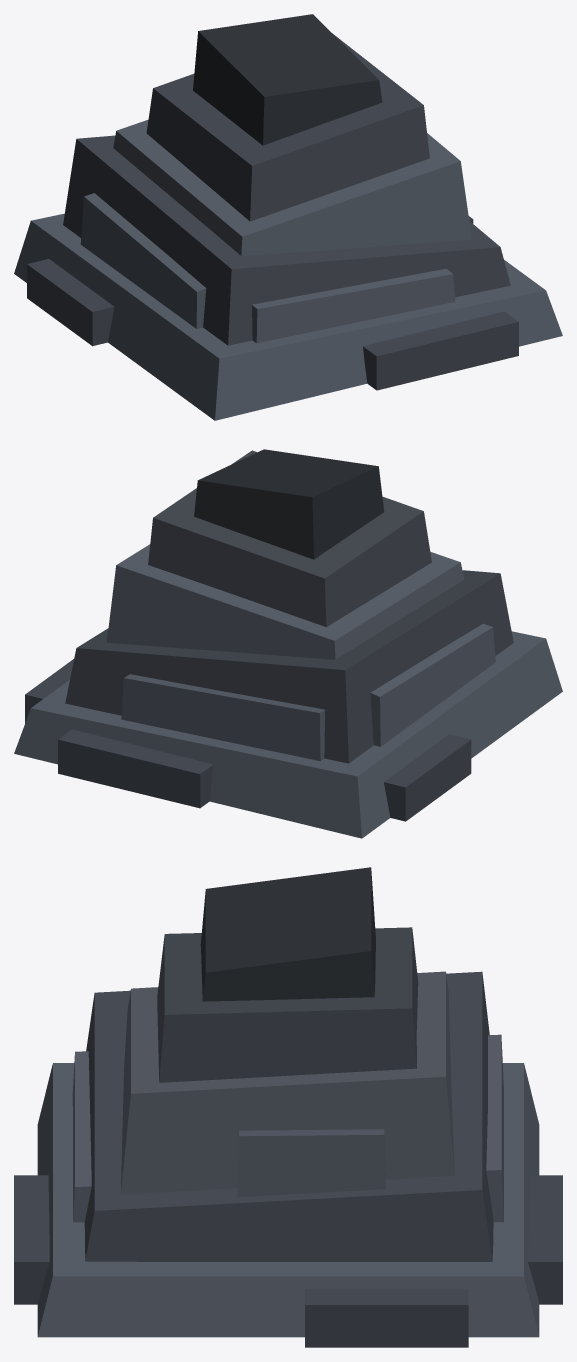
Rendered from SM_Tile_Cube_Mountain_04.glb.
The picture shows the model from 3 angles, top to bottom: view 1: azimuth 30°, elevation 25°; view 2: azimuth 150°, elevation 25°; view 3: azimuth 270°, elevation 25°; orthographic projection. The views are drawn at different scales.
Visible parts, largest first — view 1: SM_Tile_Cube_Mountain_04; view 2: SM_Tile_Cube_Mountain_04; view 3: SM_Tile_Cube_Mountain_04.
Part boxes in pixels (bbox=[...]): SM_Tile_Cube_Mountain_04: bbox=[14, 14, 562, 420]; SM_Tile_Cube_Mountain_04: bbox=[14, 449, 562, 838]; SM_Tile_Cube_Mountain_04: bbox=[14, 867, 562, 1347].
Size of the model in its own units: 4.73 by 3.13 by 4.73.
1 material, 1 textured.
